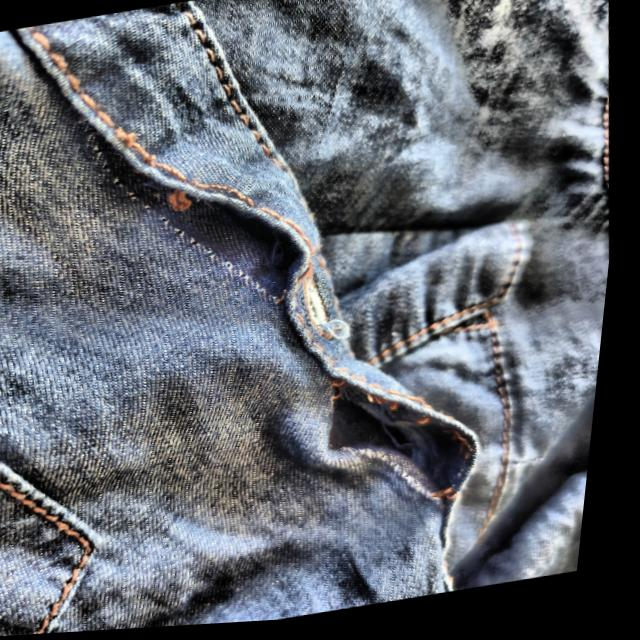seam: (16, 63, 347, 320), (256, 337, 520, 554)
